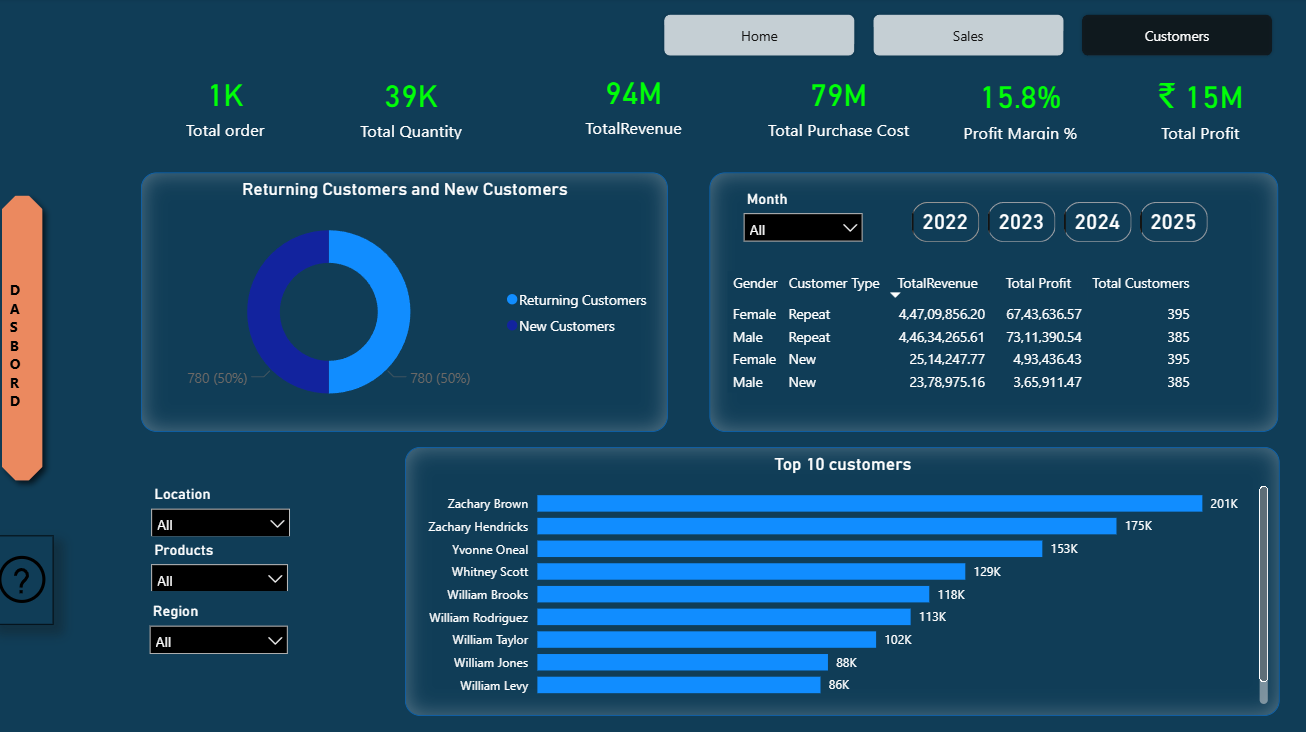

Layout of this report page (visuals, bound fields, positions):
{"tool":"powerbi","page":{"name":"Customers","canvas":[1280,720],"ordinal":2},"visuals":[{"type":"card","fields":{"Values":["Sales.Total Profit"]},"box":[1099.1,67.9,151.7,75],"z":0,"group":"g1"},{"type":"shape","box":[698.3,170.6,552.5,252.2],"z":0},{"type":"card","fields":{"Values":["Sales.Total Purchase Cost"]},"box":[721,64.4,203.8,78.4],"z":1000,"group":"g1"},{"type":"slicer","fields":{"Values":["Stores.Location"]},"box":[145.7,469,154.8,54.6],"z":1000},{"type":"card","fields":{"Values":["Sales.TotalRevenue"]},"box":[539.8,62.7,169.8,78.4],"z":2000,"group":"g1"},{"type":"tableEx","fields":{"Values":["Customers.Gender","Sales.Customer Type","Sales.TotalRevenue","Sales.Total Profit","Customers.Total Customers"]},"box":[710.4,260.7,523.1,139.5],"z":2000},{"type":"card","fields":{"Values":["Sales.Total Quantity"]},"box":[308.9,65.1,197.8,77.5],"z":3000,"group":"g1"},{"type":"advancedSlicerVisual","title":"Y","fields":{"Values":["Customers.Date.Variation.Date Hierarchy.Year"]},"box":[889.3,193.9,300.3,49.6],"z":3000},{"type":"card","fields":{"Values":["Customers.Total order"]},"box":[145.8,64.4,163,78.4],"z":4000,"group":"g1"},{"type":"slicer","fields":{"Values":["Products.Name"]},"box":[146,523.1,152.7,54.1],"z":4000},{"type":"card","fields":{"Values":["Sales.Profit Margin %"]},"box":[924.8,67.9,151.7,75],"z":5000,"group":"g1"},{"type":"slicer","fields":{"Values":["Customers.Date.Variation.Date Hierarchy.Month"]},"box":[721.6,182.2,135.6,71.4],"z":5000},{"type":"group","id":"g1","title":"Group 1","box":[145.8,62.7,1105.1,80.2],"z":6000},{"type":"barChart","title":"Top 10 customers","fields":{"Category":["Customers.Name"],"Y":["Sales.TotalRevenue"]},"box":[402.2,437.1,850,261.1],"z":7000},{"type":"actionButton","box":[0,523.6,60.7,86.5],"z":8000},{"type":"shape","box":[0,181.7,60.6,298.3],"z":9000},{"type":"textbox","box":[13.5,269,28.4,139.2],"z":10000},{"type":"pageNavigator","box":[650.2,13.5,600.2,48.7],"z":11000},{"type":"donutChart","fields":{"Y":["Customers.Returning Customers","Sales.New Customers"]},"box":[145.8,170.6,511.7,252.2],"z":12000},{"type":"slicer","fields":{"Values":["Customers.Region"]},"box":[144.6,582.6,154.1,55.4],"z":13000}]}

Visuals, with their boxes in screenshot pixels (x1, y1, x2, y2), scaled from the page's 1280x720 canvas onto the 1306x732 screenshot:
card - Sales.Total Profit: [1121, 69, 1276, 145]
shape: [712, 173, 1276, 430]
card - Sales.Total Purchase Cost: [736, 65, 944, 145]
slicer - Stores.Location: [149, 477, 307, 532]
card - Sales.TotalRevenue: [551, 64, 724, 143]
tableEx - Customers.Gender x Sales.Customer Type: [725, 265, 1259, 407]
card - Sales.Total Quantity: [315, 66, 517, 145]
"Y" advancedSlicerVisual: [907, 197, 1214, 248]
card - Customers.Total order: [149, 65, 315, 145]
slicer - Products.Name: [149, 532, 305, 587]
card - Sales.Profit Margin %: [944, 69, 1098, 145]
slicer - Customers.Date.Variation.Date Hierarchy.Month: [736, 185, 875, 258]
"Group 1" group: [149, 64, 1276, 145]
"Top 10 customers" barChart: [410, 444, 1278, 710]
actionButton: [0, 532, 62, 620]
shape: [0, 185, 62, 488]
textbox: [14, 273, 43, 415]
pageNavigator: [663, 14, 1276, 63]
donutChart - Customers.Returning Customers x Sales.New Customers: [149, 173, 671, 430]
slicer - Customers.Region: [148, 592, 305, 649]
